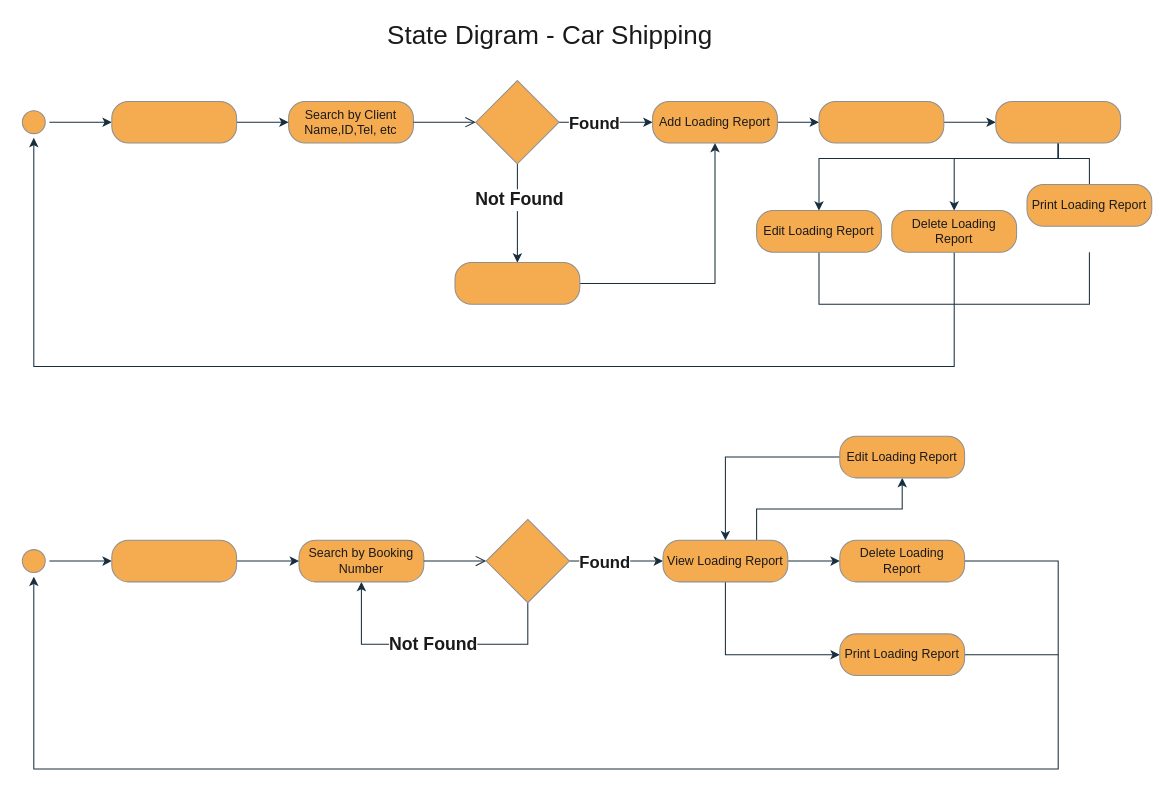
The diagram is 1170 pixels wide and 796 high, and some of its shapes have lost their labels. The centre of each missing label's shape, as x and y in pixels:
"Add Cars" belongs at (881,121).
"Add New Client" belongs at (517,283).
"Create Loading Report" belongs at (174,121).
"Final Loading Report" belongs at (1058,121).
"Search Loading Report" belongs at (174,560).
